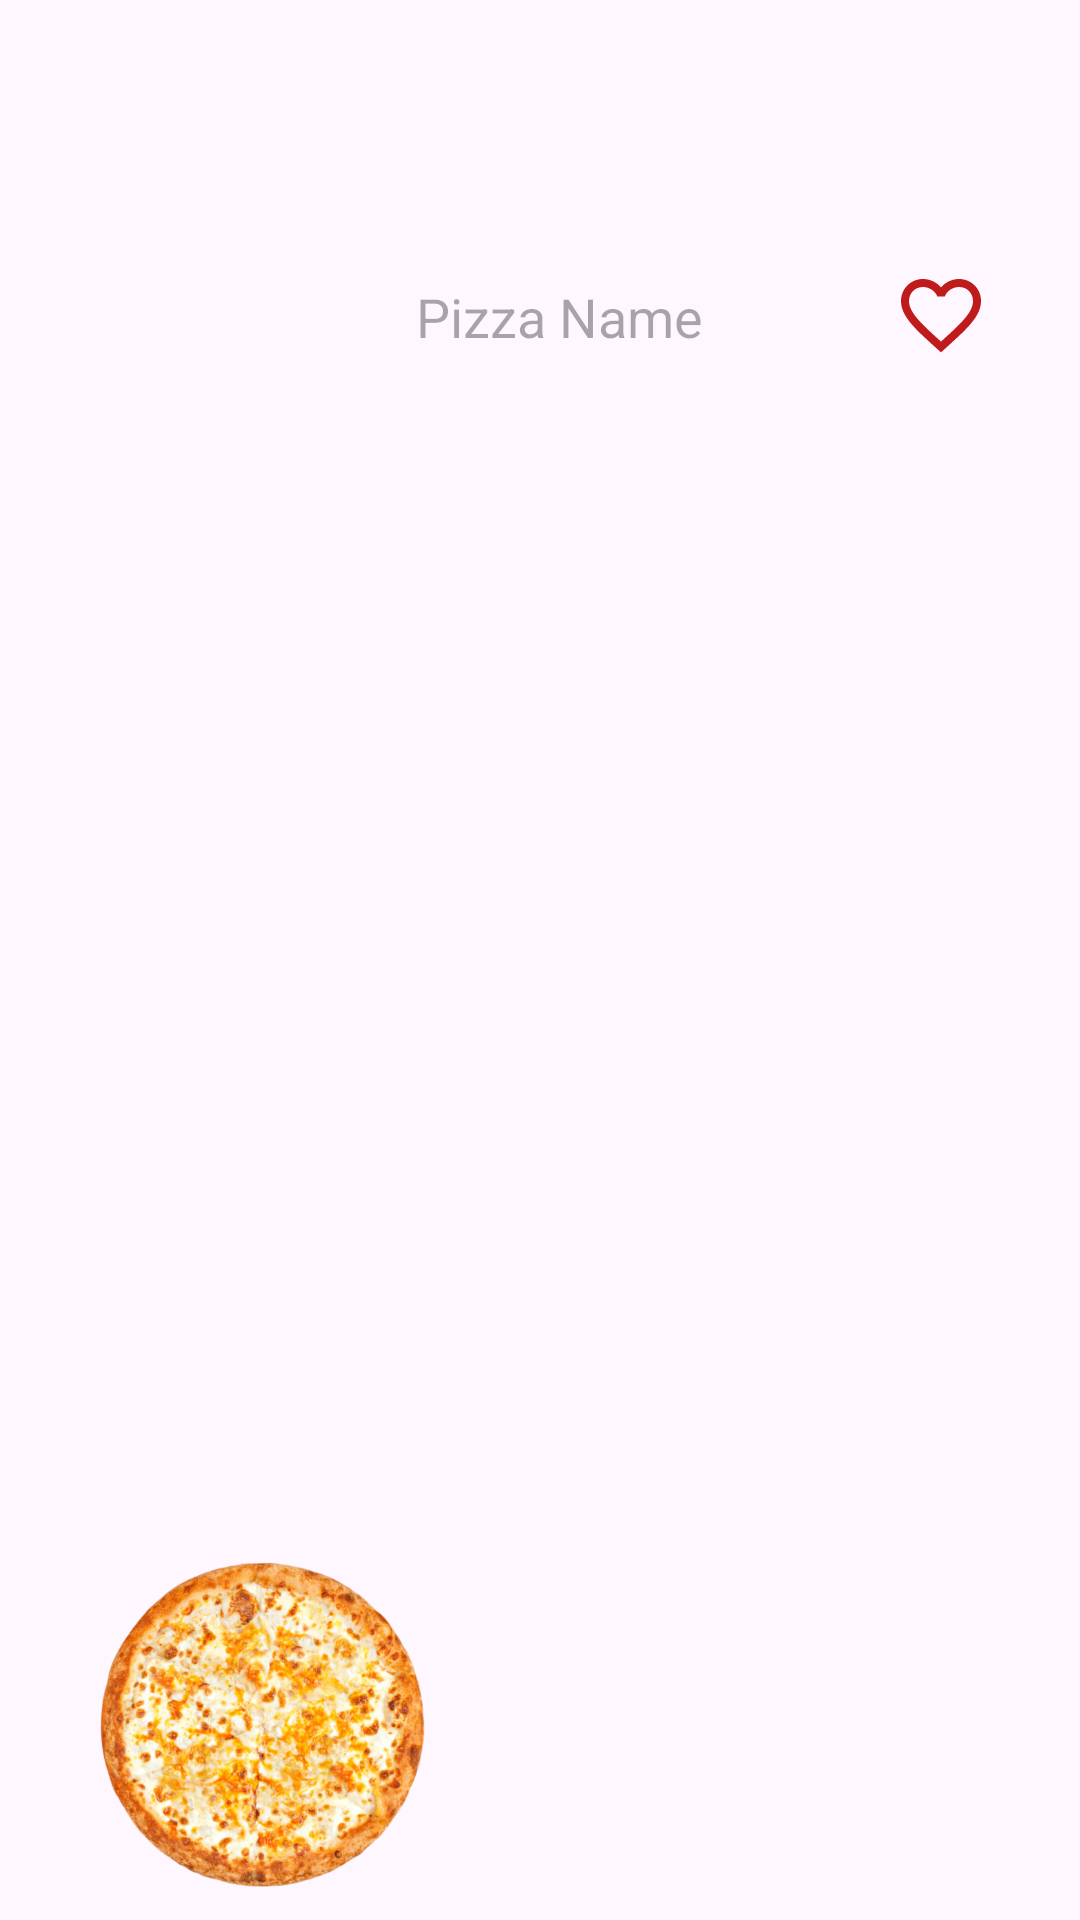

Named icons in this screenshot (1080*1920) and their bounding boxes, (x1, y1, x2, y2):
favorite border: (901, 279, 981, 352)
margarita: (100, 1563, 424, 1887)
